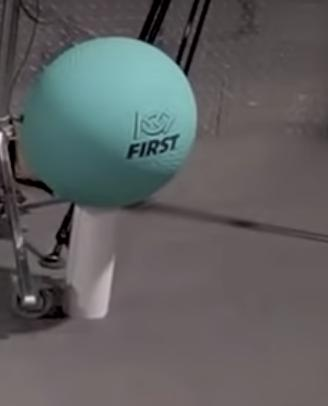algae: (19, 38, 196, 208)
coral: (63, 208, 120, 320)
